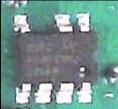ic: (8, 10, 100, 106)
